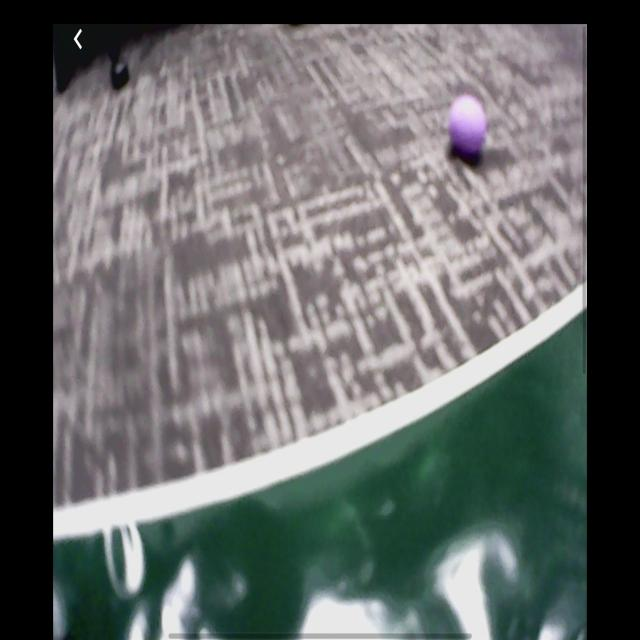ball: (449, 96, 488, 160)
